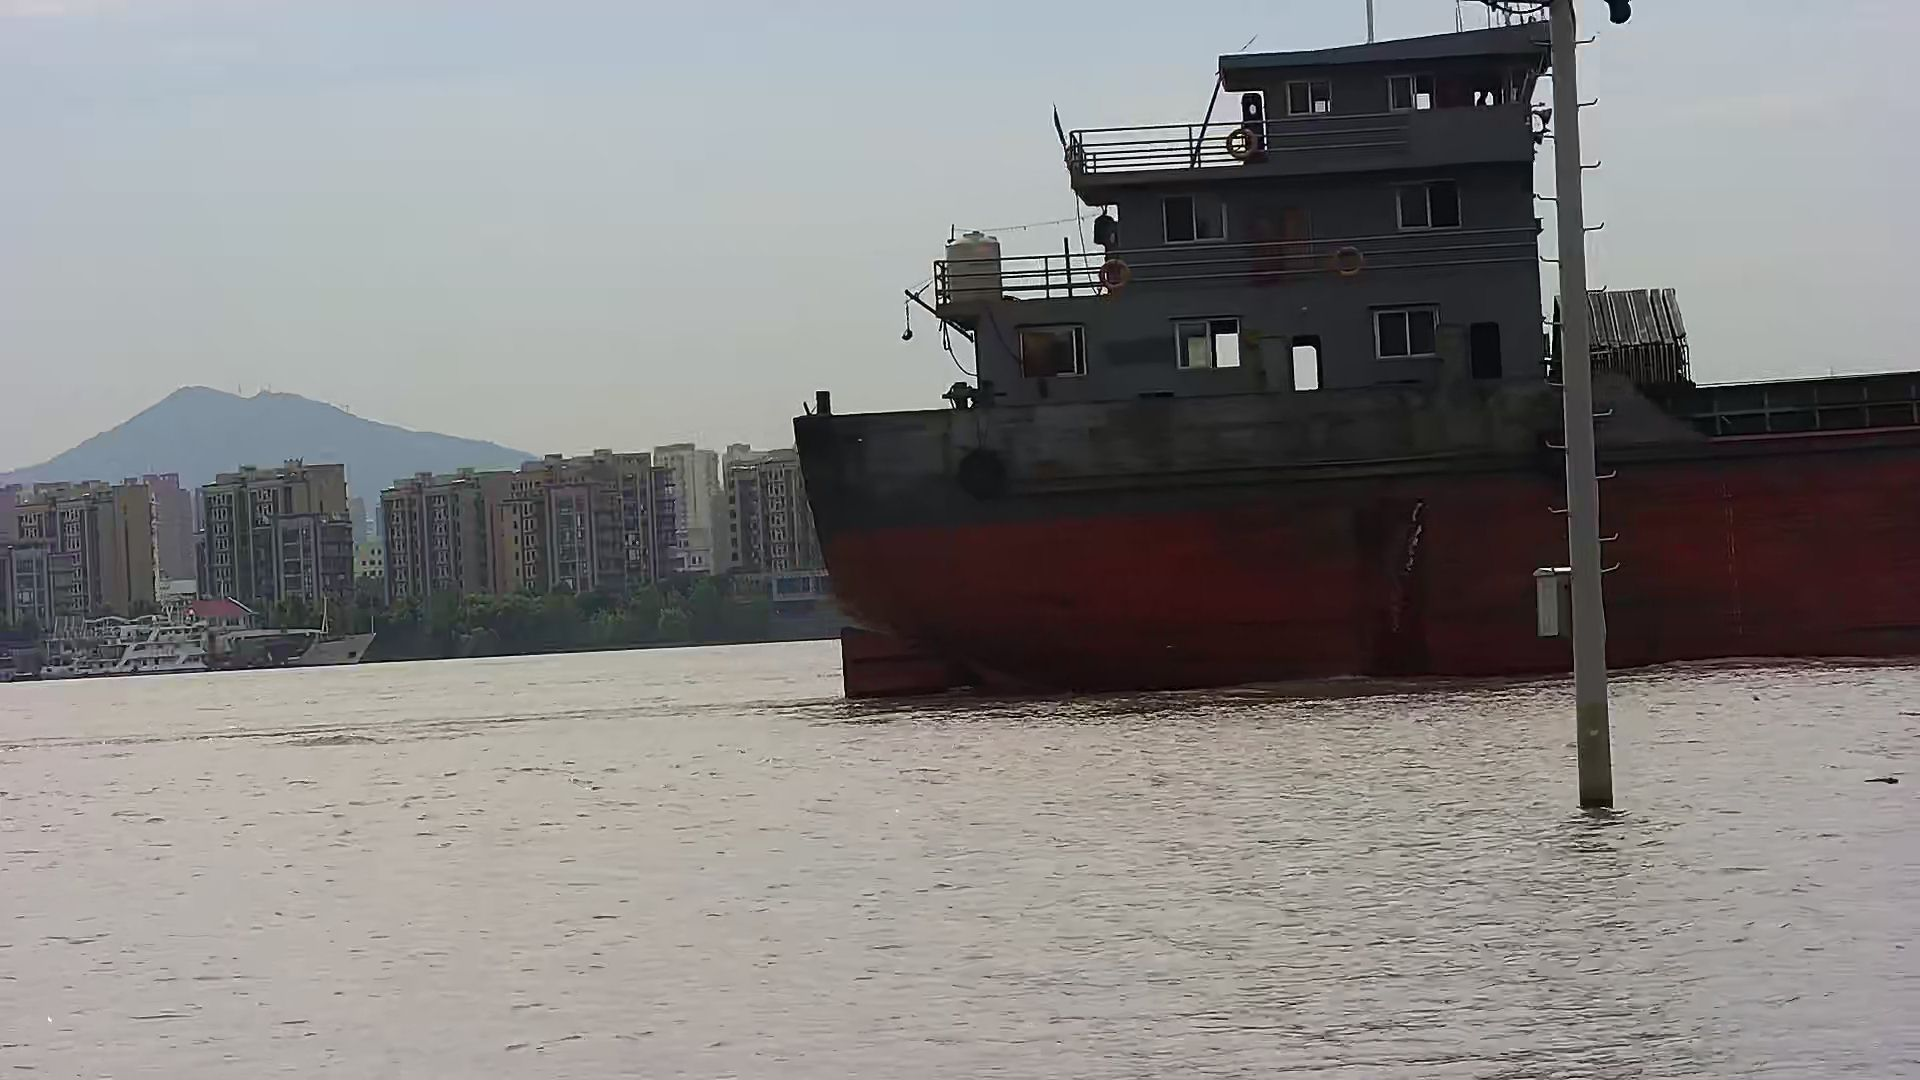mast: (1545, 1, 1623, 818)
ship: (791, 1, 1920, 700), (47, 628, 206, 673), (212, 626, 376, 667)
